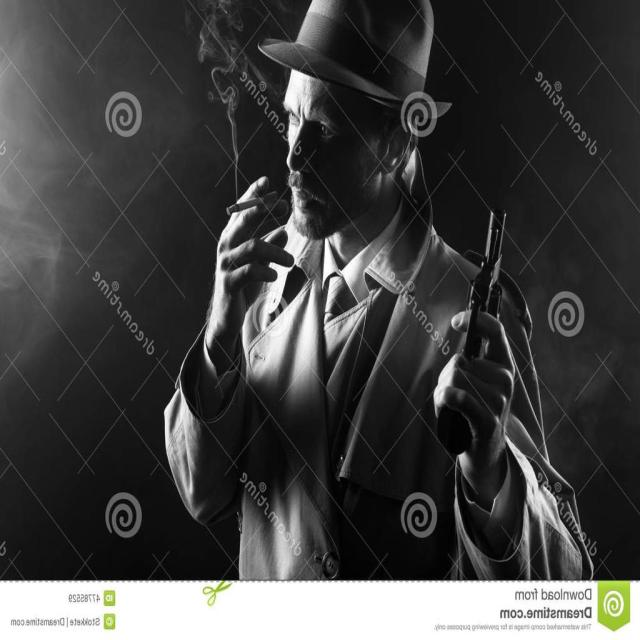smoking: (190, 31, 443, 271)
